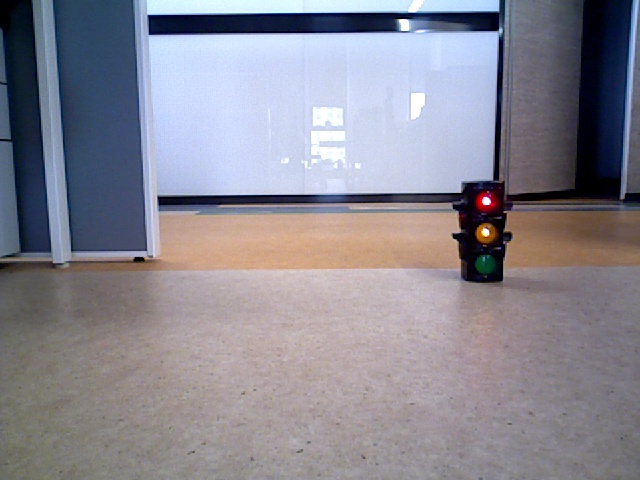red: (462, 184, 500, 282)
